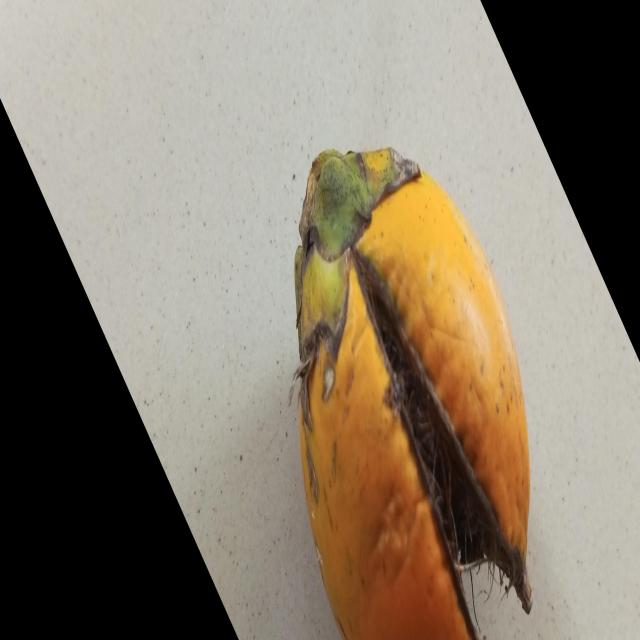damaged: (293, 148, 532, 640)
